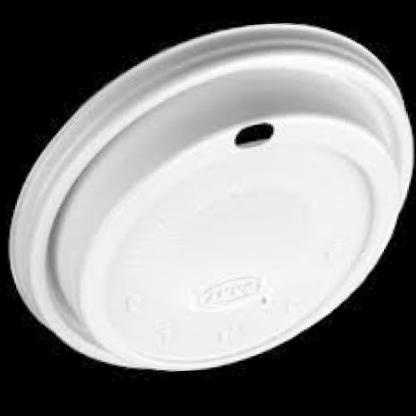trash: (10, 24, 412, 369)
